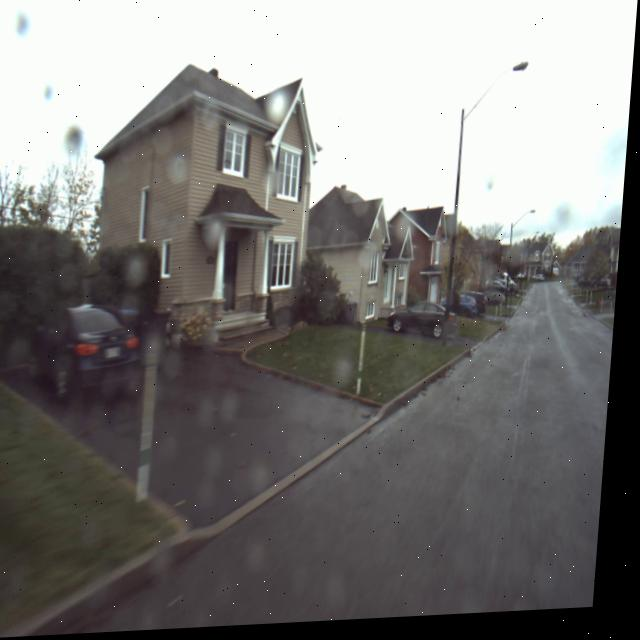car: (390, 298, 466, 343)
